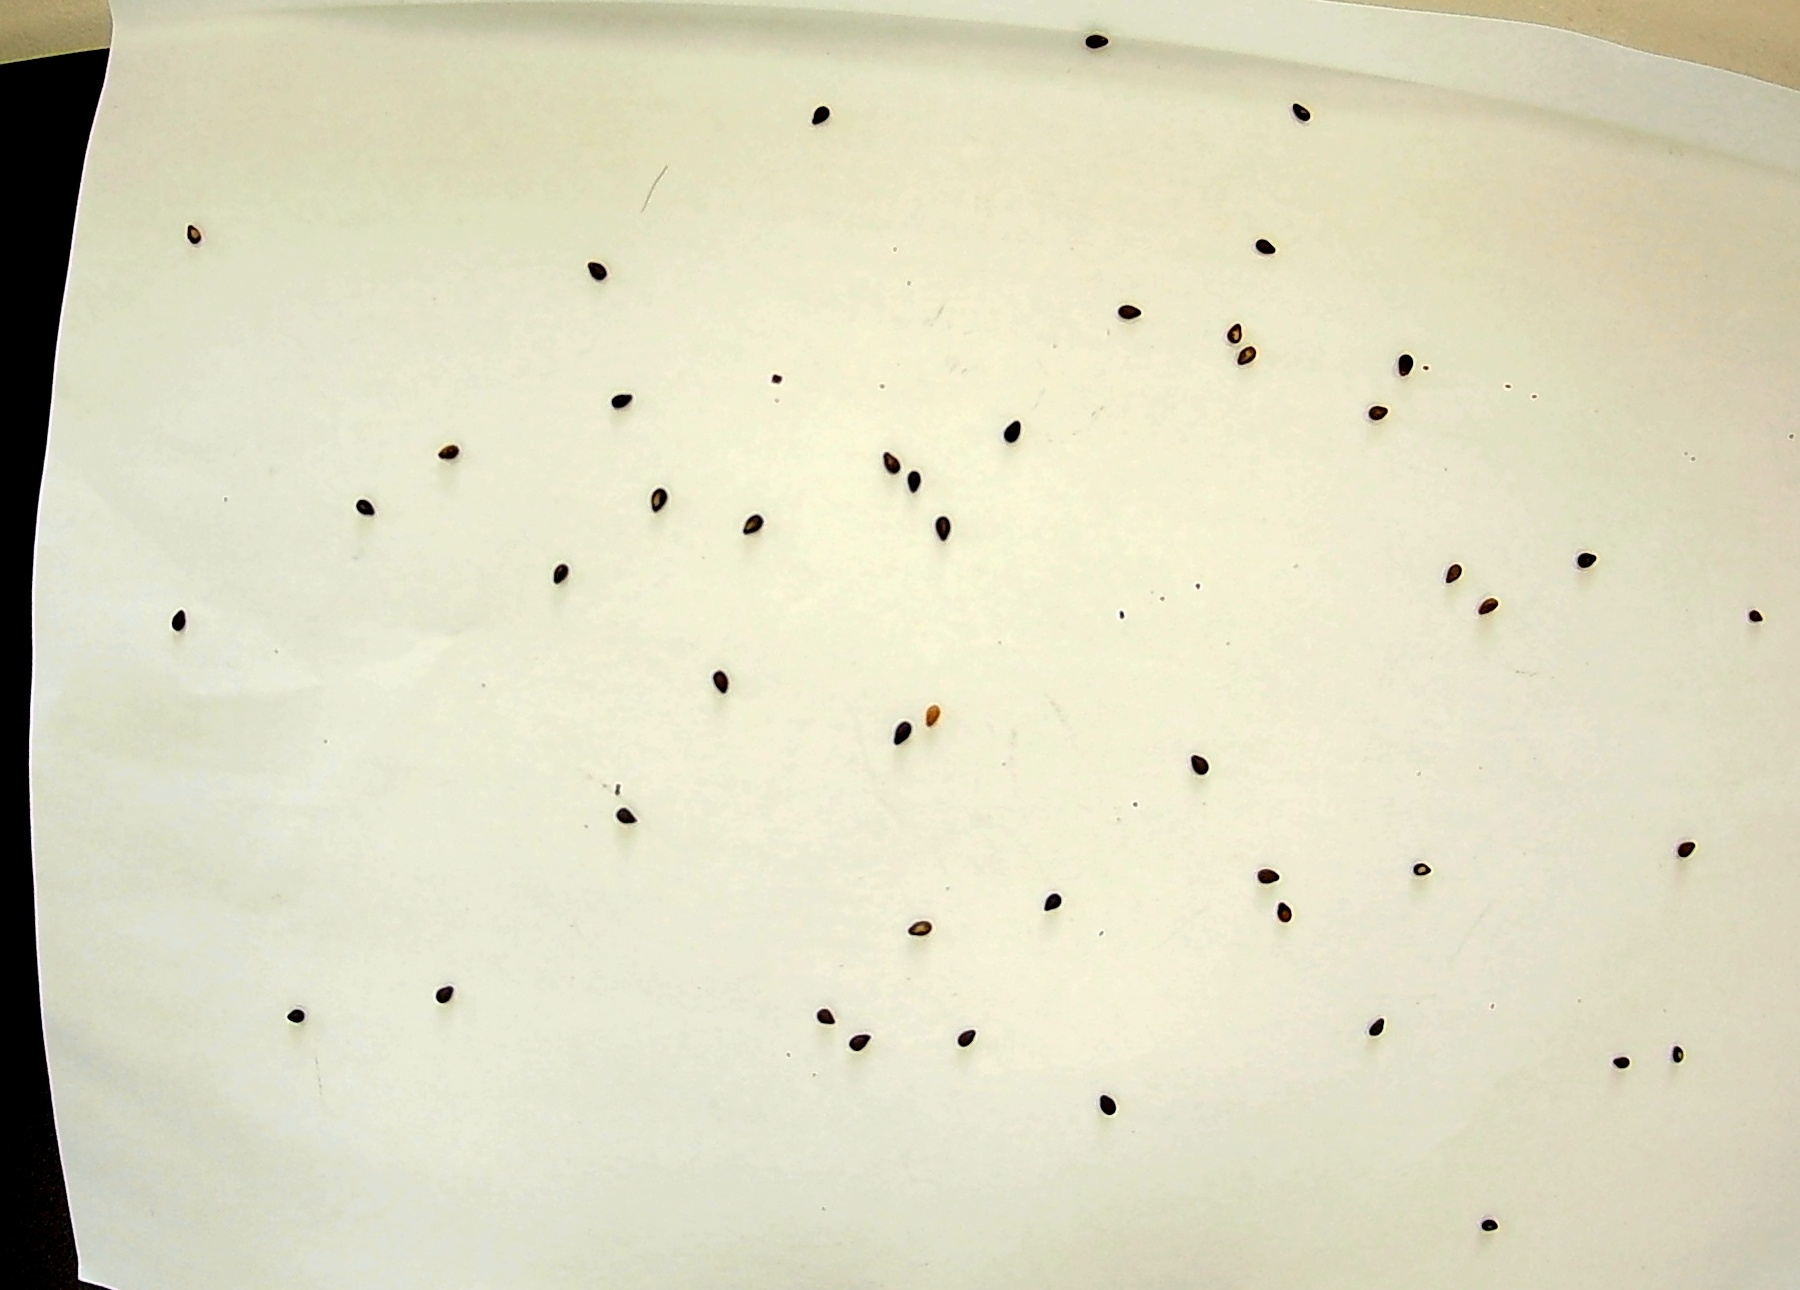sesami: (1367, 1009, 1405, 1055), (1606, 1040, 1642, 1088), (1093, 1088, 1129, 1135), (841, 1025, 878, 1072), (812, 994, 848, 1041), (1471, 1201, 1507, 1247), (954, 1021, 991, 1067), (1439, 553, 1471, 595), (1280, 95, 1312, 137), (738, 505, 774, 542), (873, 445, 910, 482), (1000, 410, 1038, 445), (927, 511, 964, 546), (1108, 292, 1146, 327), (1220, 341, 1257, 376), (924, 701, 961, 736), (900, 909, 938, 944), (1035, 891, 1073, 926), (1393, 339, 1423, 381), (1079, 18, 1109, 60), (805, 99, 836, 141), (587, 251, 618, 293), (180, 218, 211, 260), (165, 605, 195, 646), (356, 489, 387, 531), (899, 466, 935, 501), (1250, 228, 1287, 262), (1215, 314, 1252, 349), (1356, 394, 1393, 429), (885, 715, 921, 750), (1665, 1033, 1701, 1068), (650, 484, 685, 518), (547, 557, 582, 591), (437, 983, 472, 1016), (615, 804, 650, 838), (706, 665, 741, 698), (435, 438, 472, 470), (597, 390, 632, 422), (280, 1002, 315, 1035), (1187, 750, 1215, 783), (1249, 854, 1277, 888), (1411, 854, 1439, 888), (1275, 894, 1303, 926), (1674, 838, 1702, 870), (1746, 593, 1773, 625), (1571, 542, 1599, 574), (1473, 593, 1501, 625)
